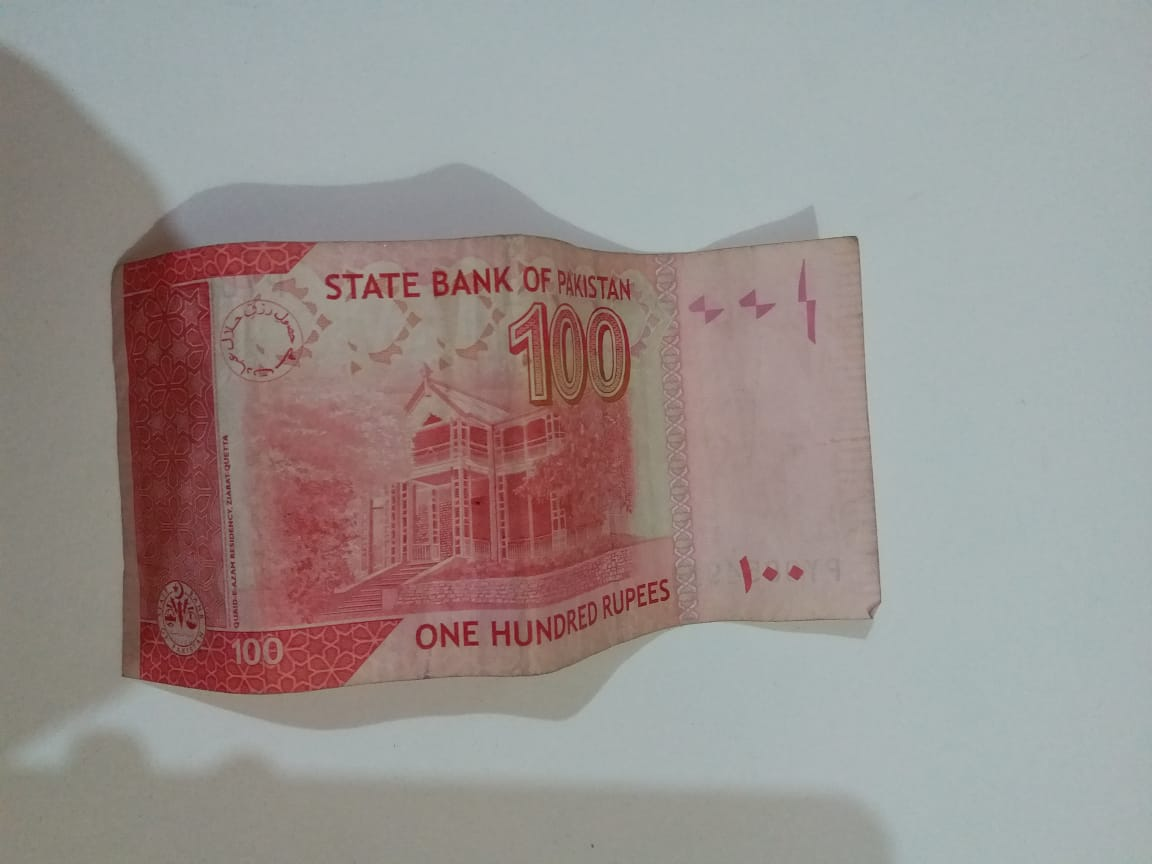100 rupee: (102, 243, 883, 699)
